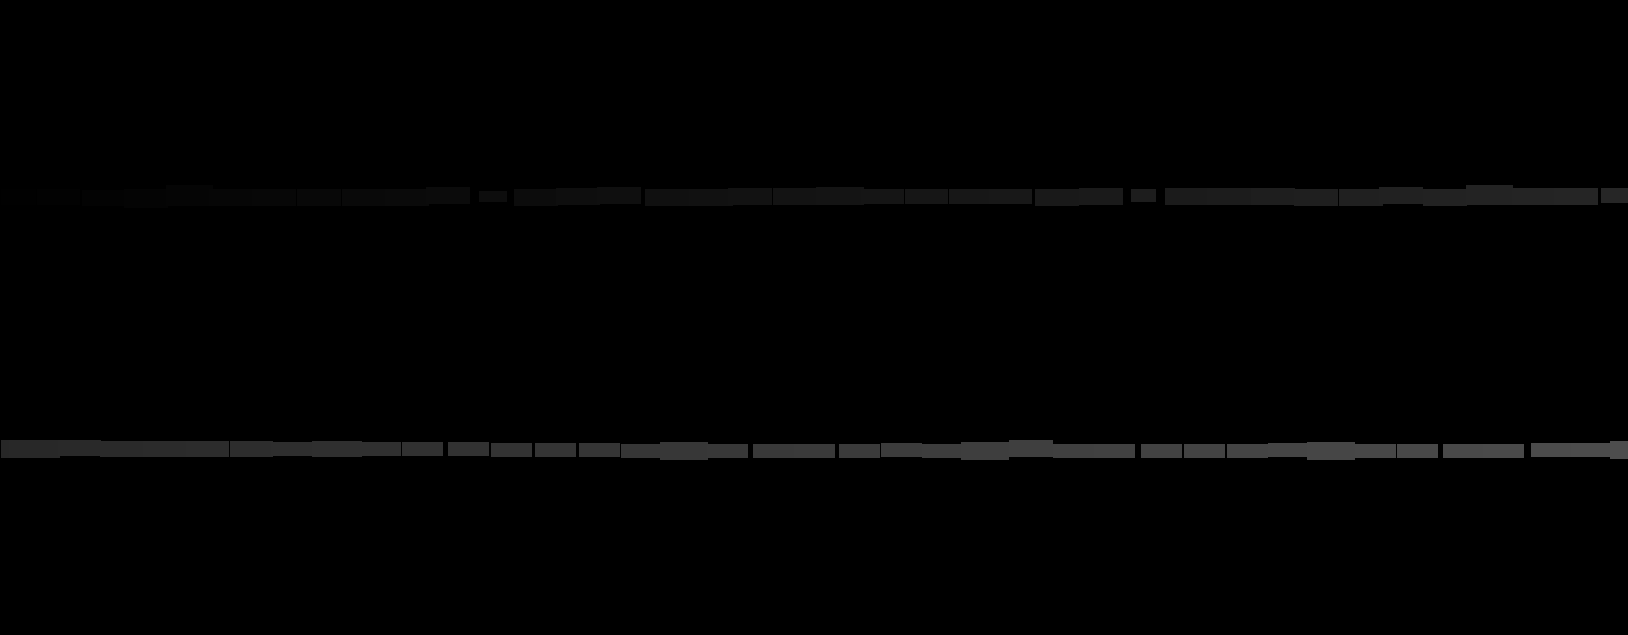light: (166, 185, 213, 206), (1466, 185, 1513, 205), (9, 440, 60, 458), (816, 187, 864, 205), (660, 442, 708, 460), (961, 442, 1009, 460), (1307, 442, 1355, 460), (124, 189, 168, 208), (209, 189, 253, 206), (342, 189, 386, 206), (426, 187, 470, 204), (645, 189, 689, 206), (728, 188, 772, 205), (1079, 188, 1123, 205), (1294, 189, 1338, 206), (1379, 187, 1423, 204), (1512, 188, 1556, 205), (313, 441, 362, 457), (252, 189, 296, 206), (297, 189, 341, 206), (385, 189, 429, 206), (514, 189, 558, 206), (557, 188, 600, 205), (597, 187, 641, 204), (689, 189, 733, 206), (774, 188, 817, 205), (1035, 189, 1079, 206), (1165, 188, 1209, 205), (1208, 188, 1251, 205), (1251, 188, 1295, 205), (1339, 189, 1383, 206), (1423, 189, 1467, 206), (1554, 188, 1598, 205), (1009, 440, 1053, 457), (37, 189, 80, 205), (82, 190, 125, 206), (861, 189, 904, 204), (100, 441, 143, 457), (186, 441, 229, 457), (905, 189, 948, 204), (949, 189, 992, 204), (989, 189, 1032, 204), (58, 440, 101, 455), (143, 441, 186, 457), (230, 441, 273, 457), (1, 189, 36, 205), (271, 442, 313, 455), (402, 442, 443, 455), (447, 442, 489, 455), (535, 443, 576, 457), (621, 444, 662, 458), (753, 444, 794, 458), (839, 444, 880, 458), (922, 444, 964, 458), (1053, 444, 1094, 458), (1184, 444, 1225, 458), (1268, 443, 1309, 457), (1355, 444, 1396, 458), (1483, 444, 1524, 458), (1571, 443, 1612, 457), (360, 442, 401, 455), (491, 443, 532, 457), (579, 443, 620, 457), (707, 444, 748, 458), (794, 444, 835, 458), (881, 443, 922, 457), (1094, 444, 1135, 458), (1141, 444, 1182, 458), (1227, 444, 1268, 458), (1398, 444, 1438, 458), (1443, 444, 1484, 458), (1531, 443, 1572, 457), (1601, 188, 1628, 203), (1131, 189, 1156, 202), (479, 191, 507, 202), (1610, 441, 1628, 459), (1, 440, 12, 458)
